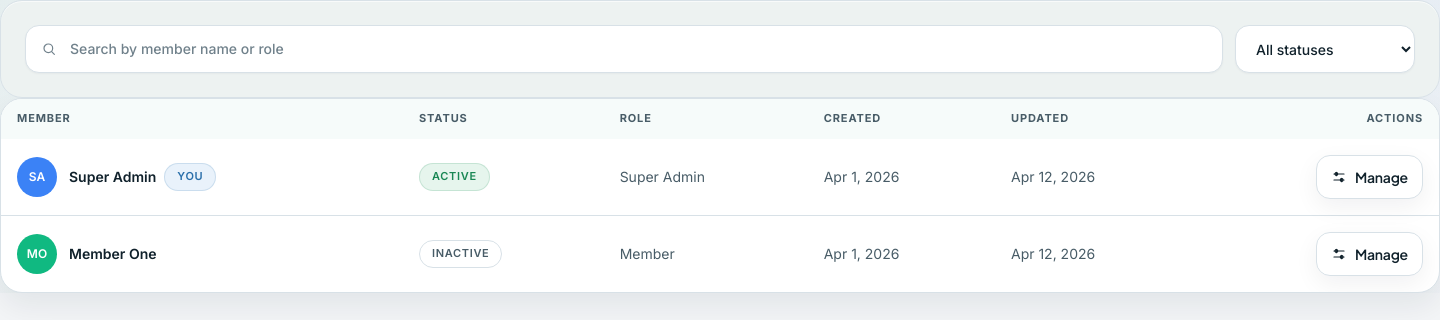
Test: MemberManagerList › marks the current user and filters members
This screenshot has width=1440, height=320.
Expected: the text "You" is shown, [164,163,216,191]
In the search field with placeholder "Search by member name or role": (624, 49) [25,25,1223,73], type "member one"
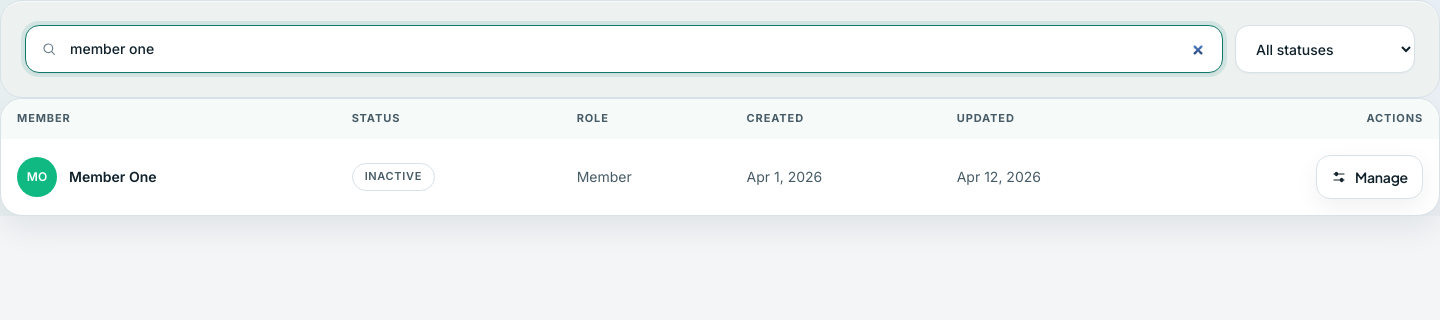
Expected: the text "Member One" is shown, [69,167,156,187]
Now the text "Super Admin" is gone
